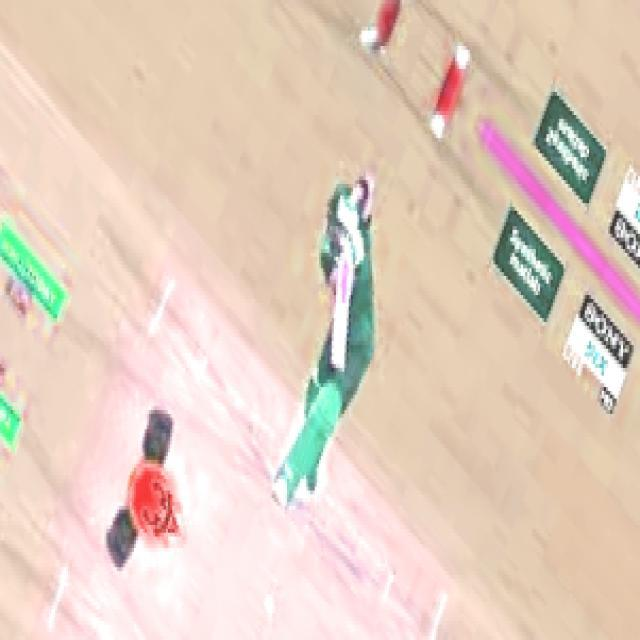bat: (323, 249, 353, 369)
toe: (328, 356, 351, 369)
